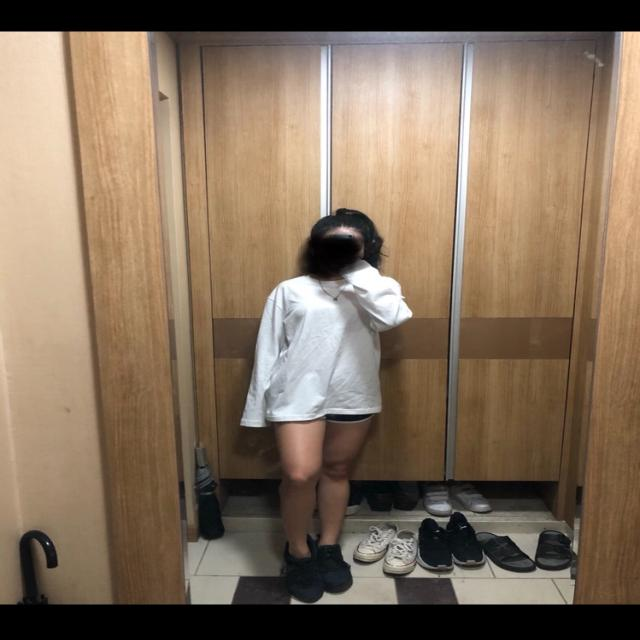longsleeve: (243, 269, 418, 432)
shortpants: (247, 404, 379, 429)
